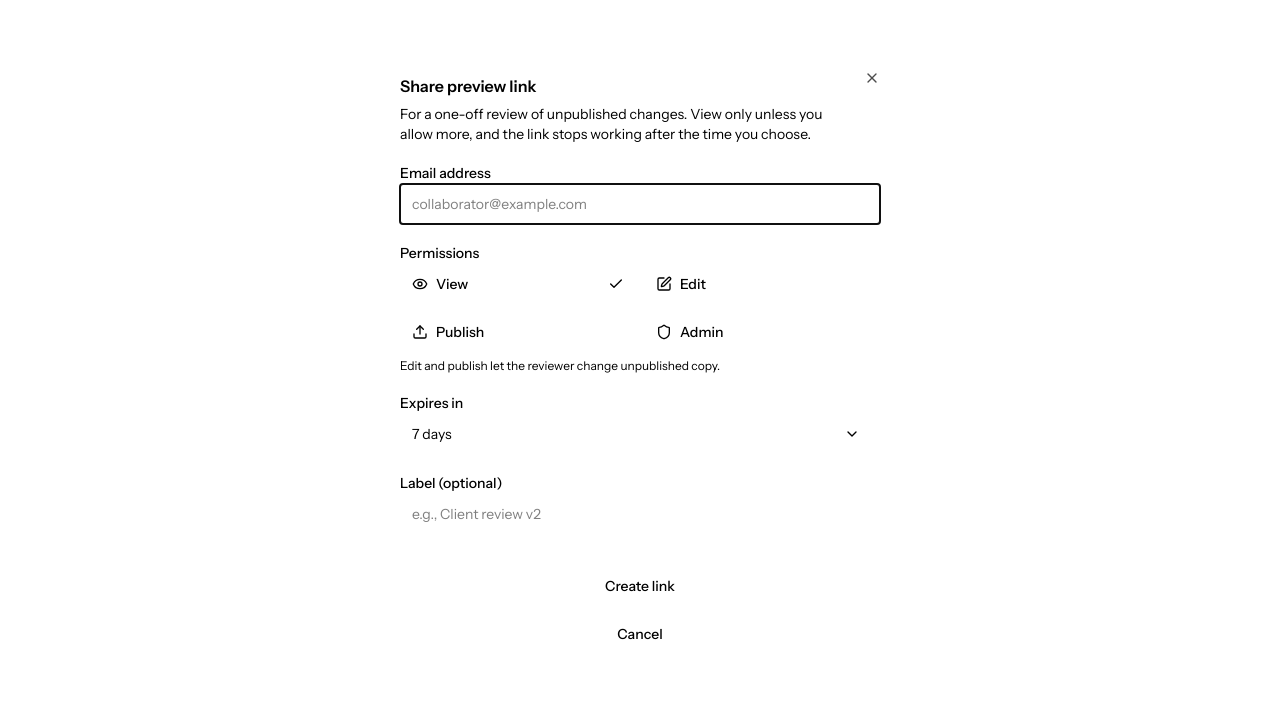
Test: ShareSiteDialog (s66a) › reports feedback through Alert
Expected: the field labelled "Email address" is shown, [400,184,880,224]
Click the button "Create link" at (640, 586), box [400,566,880,606]
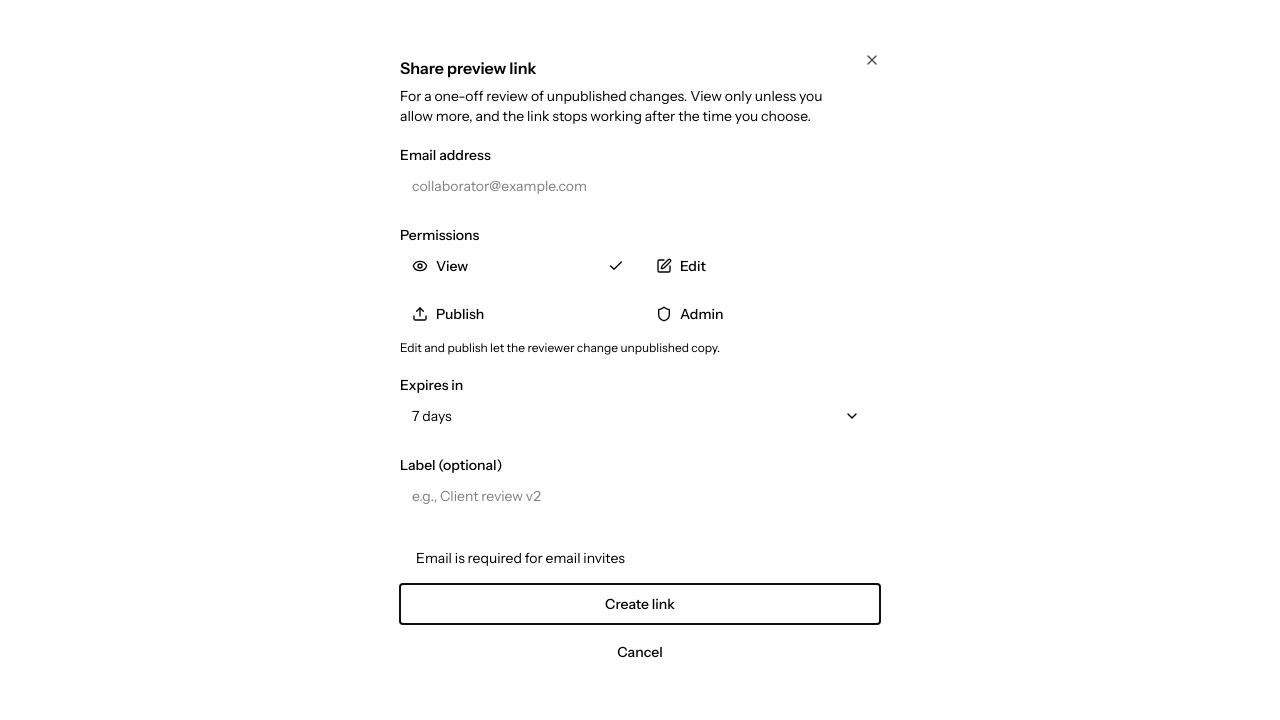
Result: the message reads "Email is required for email invites" at [416,549,625,567]
